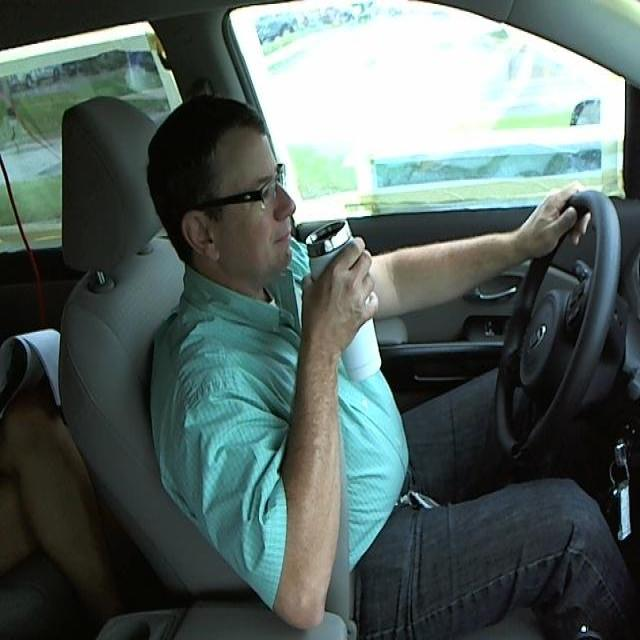Seatbelt: (306, 221, 386, 384)
